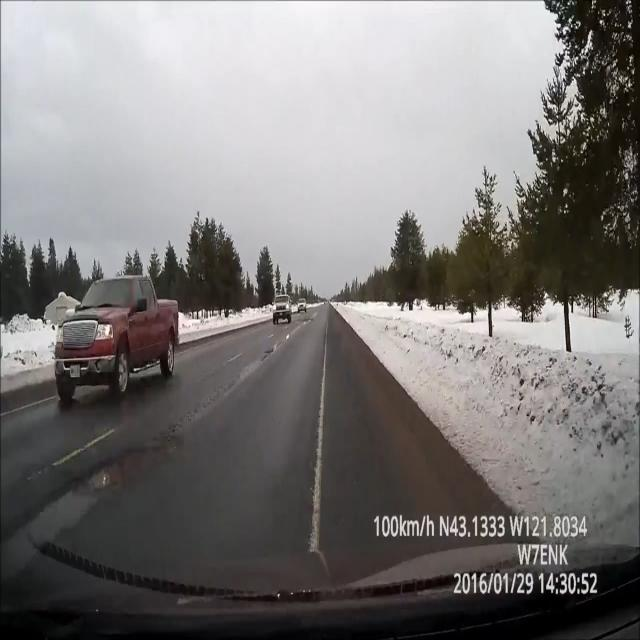Pothole: (61, 430, 175, 528)
